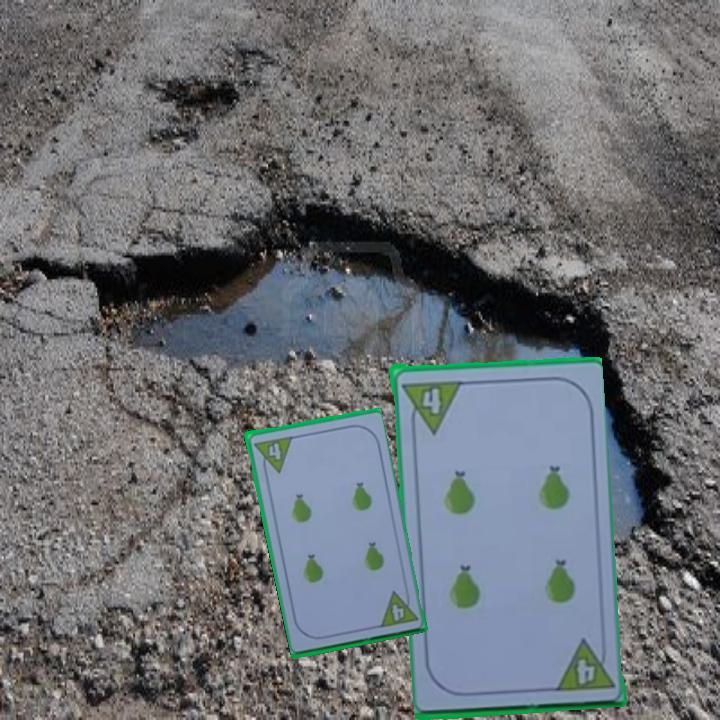4p: (552, 634, 617, 695), (397, 376, 463, 436), (250, 432, 294, 477), (376, 585, 420, 630)
